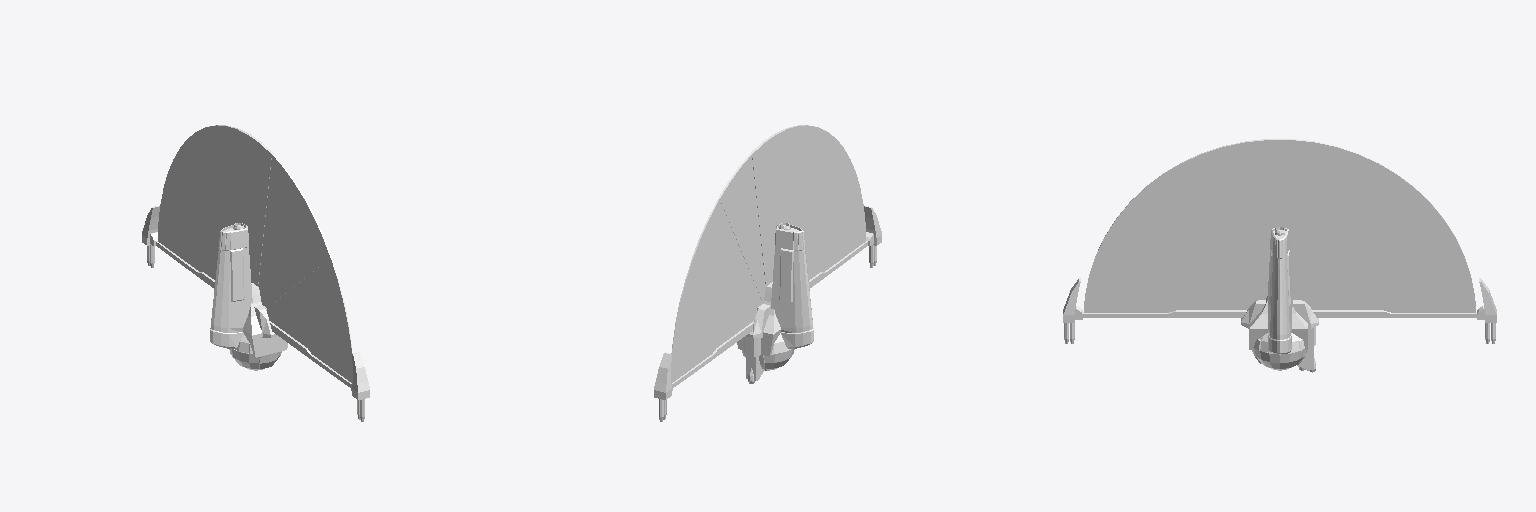
The model's file is Ginivex.obj.
3 views of the same model, side by side, from view 1: azimuth 30°, elevation 25°; view 2: azimuth 150°, elevation 25°; view 3: azimuth 270°, elevation 25° (orthographic).
Visible parts, largest first — view 1: Hull, Object01; view 2: Hull, Object01; view 3: Hull, Object01.
Boxes of the visible parts, <box> form: Hull: <box>142,125,369,421</box>; Object01: <box>229,333,281,370</box>; Hull: <box>654,125,881,421</box>; Object01: <box>742,333,794,370</box>; Hull: <box>1063,139,1496,372</box>; Object01: <box>1254,333,1304,370</box>.
Size of the model in its own units: 41.91 by 101 by 170.